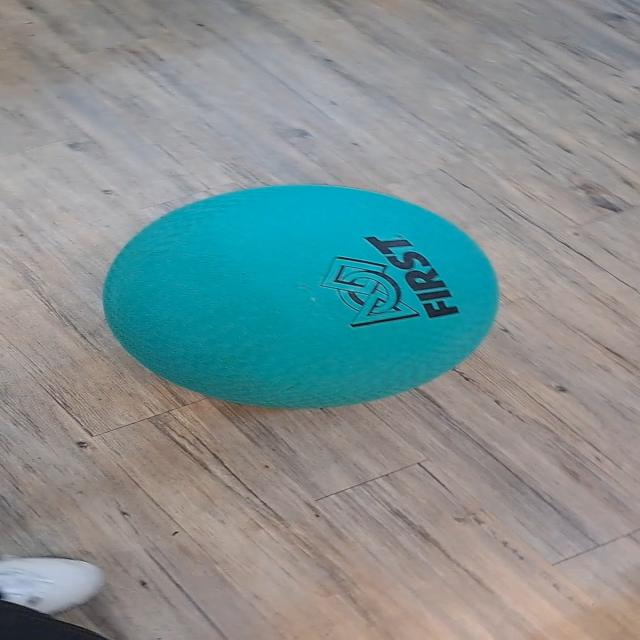ALGAE: (100, 182, 500, 410)
